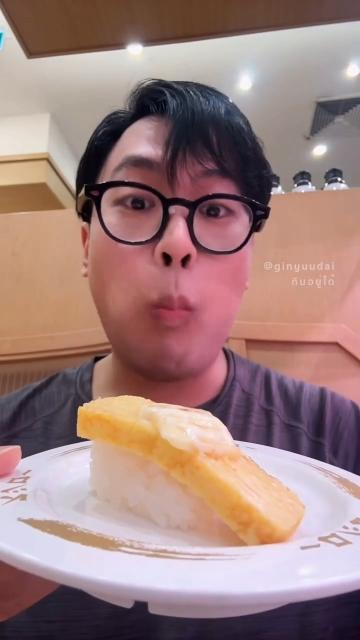janwhite: (4, 462, 360, 612)
